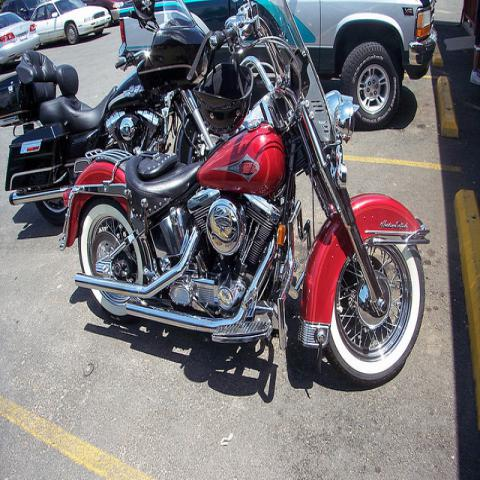car: (26, 0, 112, 46), (1, 12, 42, 68), (83, 0, 120, 26)
motorcycle: (61, 1, 427, 385), (5, 0, 211, 224)
truck: (109, 0, 438, 131)
